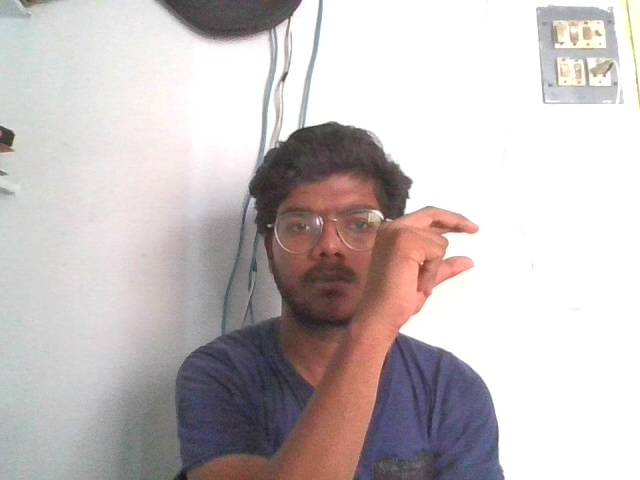No: (340, 202, 491, 314)
